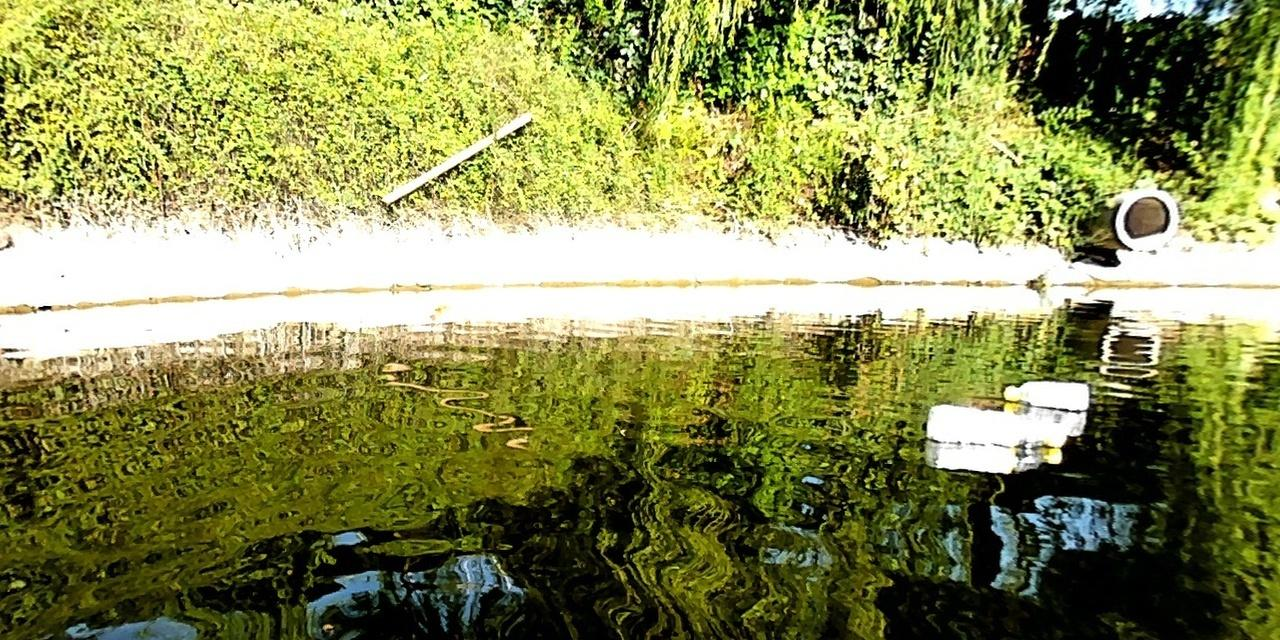bottle: (927, 404, 1065, 445), (1002, 380, 1089, 408)
